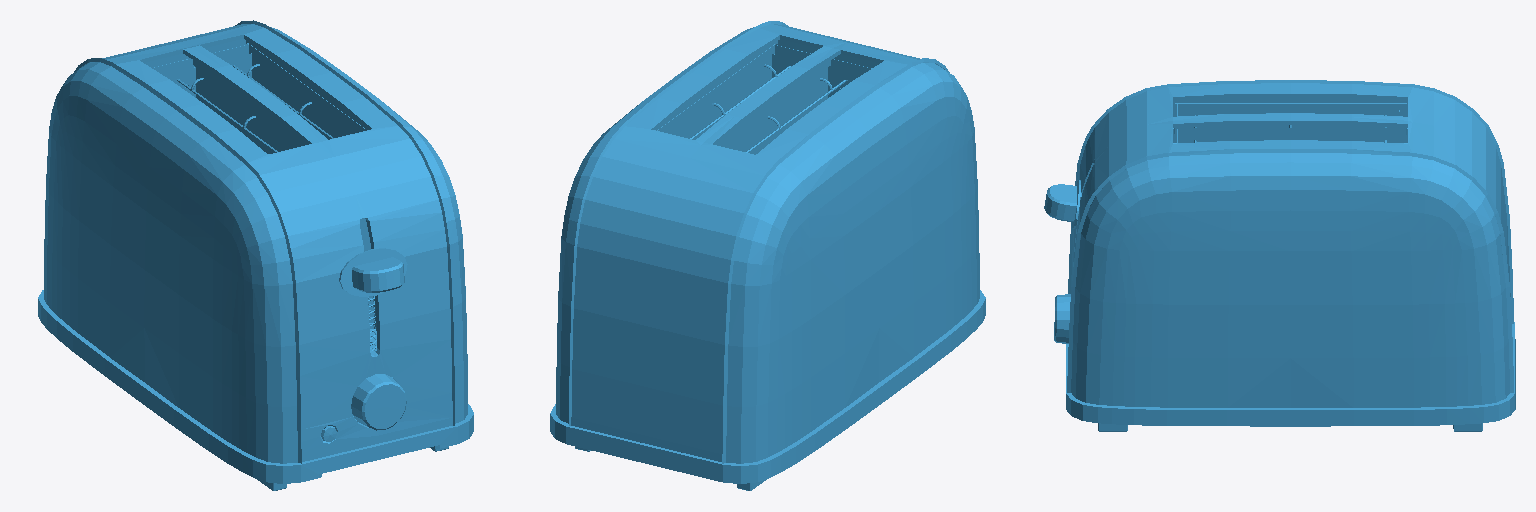
URDF robot description (model):
<?xml version="0.0" ?>
<robot name="model">
	<link name="link0_0">
		<inertial>
			<origin rpy="0.00000 -0.00000 0.00000" xyz="0.00000 0.00000 0.00000"/>
			<mass value="0.00000"/>
			<inertia ixx="0.00000" ixy="0" ixz="0" iyy="0.00000" iyz="0" izz="0.00000"/>
		</inertial>
	</link>
	<link name="object">
		<inertial>
			<origin rpy="0.00000 -0.00000 0.00000" xyz="0.00000 0.00000 0.00000"/>
			<mass value="339.37616"/>
			<inertia ixx="40.88447" ixy="0" ixz="0" iyy="20.09142" iyz="0" izz="36.45042"/>
		</inertial>
		<visual>
			<origin rpy="0.00000 -0.00000 0.00000" xyz="0.00000 0.00000 0.00000"/>
			<geometry>
				<mesh filename="visuals/model_0.obj" scale="1.00000 1.00000 1.00000"/>
			</geometry>
		</visual>
		<collision>
			<origin rpy="0.00000 -0.00000 0.00000" xyz="0.00000 0.00000 0.00000"/>
			<geometry>
				<mesh filename="visuals/model_0.obj" scale="1.00000 1.00000 1.00000"/>
			</geometry>
		</collision>
		<collision>
			<origin rpy="0.00000 -0.00000 0.00000" xyz="0.00000 0.00000 0.00000"/>
			<geometry>
				<box size="0.52013 1.00000 0.65248"/>
			</geometry>
		</collision>
	</link>
	<joint name="jointfix_1_0" type="fixed">
		<parent link="link0_0"/>
		<child link="object"/>
		<dynamics damping="1.0" friction="0.0001"/>
		<origin rpy="0.00000 -0.00000 0.00000" xyz="0.00000 0.00000 0.00000"/>
		<axis xyz="0.00000 0.00000 0.00000"/>
	</joint>
</robot>

--- Facts derived from the render (not from the file) ---
Views: 3 orthographic renders of the robot side by side, from view 1: azimuth 30°, elevation 25°; view 2: azimuth 150°, elevation 25°; view 3: azimuth 270°, elevation 25°.
Robot: model — 2 links, 1 joints (1 fixed); root link link0_0; default pose: all joints at 0.
Visible links, largest first — view 1: object; view 2: object; view 3: object.
Boxes of the visible links, left/top/right/bottom form: object: left=38, top=20, right=473, bottom=490; object: left=550, top=21, right=985, bottom=490; object: left=1044, top=80, right=1515, bottom=431.
Size in the robot's own frame: 0.5201 by 1 by 0.6525 metres.
Meshes: 1 distinct files referenced, 1 mesh visuals loaded (1 OBJ).